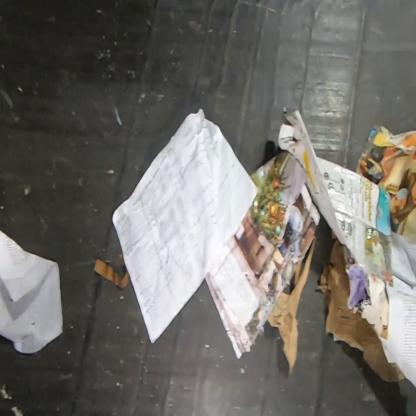cardboard: (277, 109, 395, 288), (315, 229, 407, 383)
